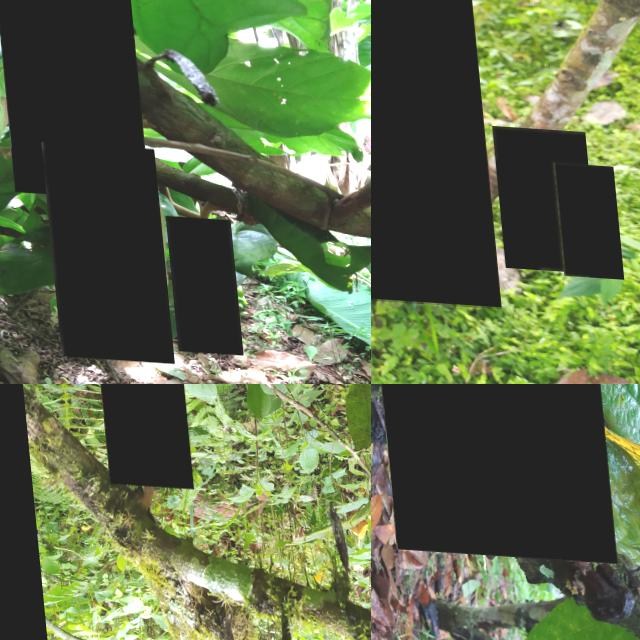Fitoftora: (371, 384, 608, 558), (0, 0, 144, 198)
Monilia: (81, 384, 186, 486)
Sana: (371, 0, 491, 303), (36, 141, 166, 361), (486, 120, 590, 267), (159, 213, 235, 352), (547, 156, 615, 272)
